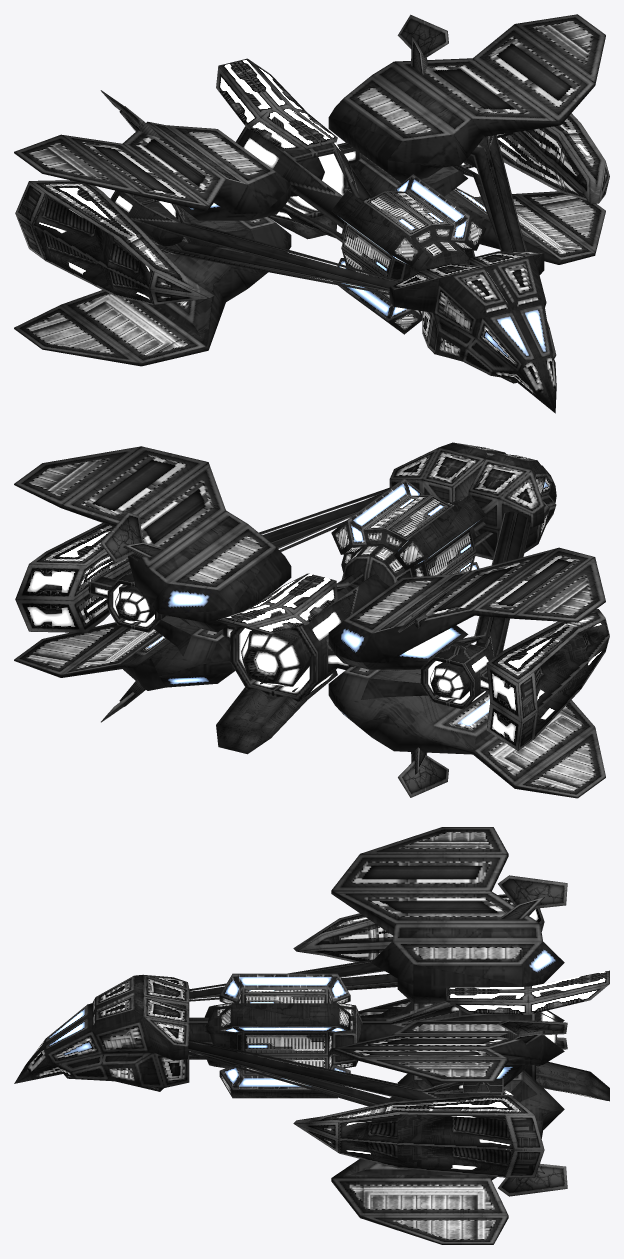
Rendered from yellowship.dae.
3 views of the same model, one above another, from view 1: azimuth 30°, elevation 25°; view 2: azimuth 150°, elevation 25°; view 3: azimuth 270°, elevation 25° (orthographic). The views are drawn at different scales.
Parts seen in each view (by area): view 1: TangtagliaStarship10; view 2: TangtagliaStarship10; view 3: TangtagliaStarship10.
Part boxes in pixels (x1,y1,x2,y2): TangtagliaStarship10: [14, 14, 609, 413]; TangtagliaStarship10: [14, 442, 609, 798]; TangtagliaStarship10: [14, 827, 609, 1244].
Bounding box in the file's own units: 18.32 × 18.15 × 5.96.
Materials: 2 (2 with a texture image).
